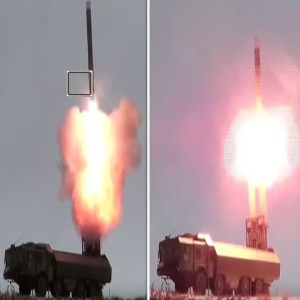square: (65, 69, 95, 98)
